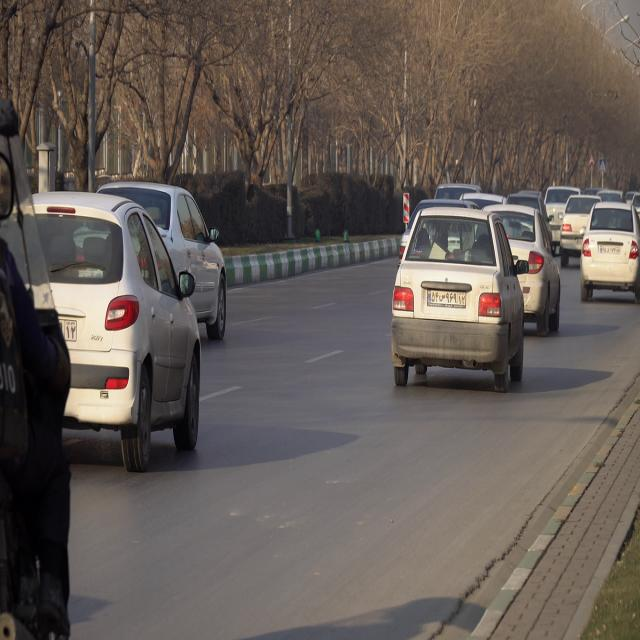car: (18, 190, 200, 473), (392, 206, 527, 385), (94, 184, 225, 330), (485, 208, 565, 334), (581, 205, 640, 295), (562, 193, 598, 262)
